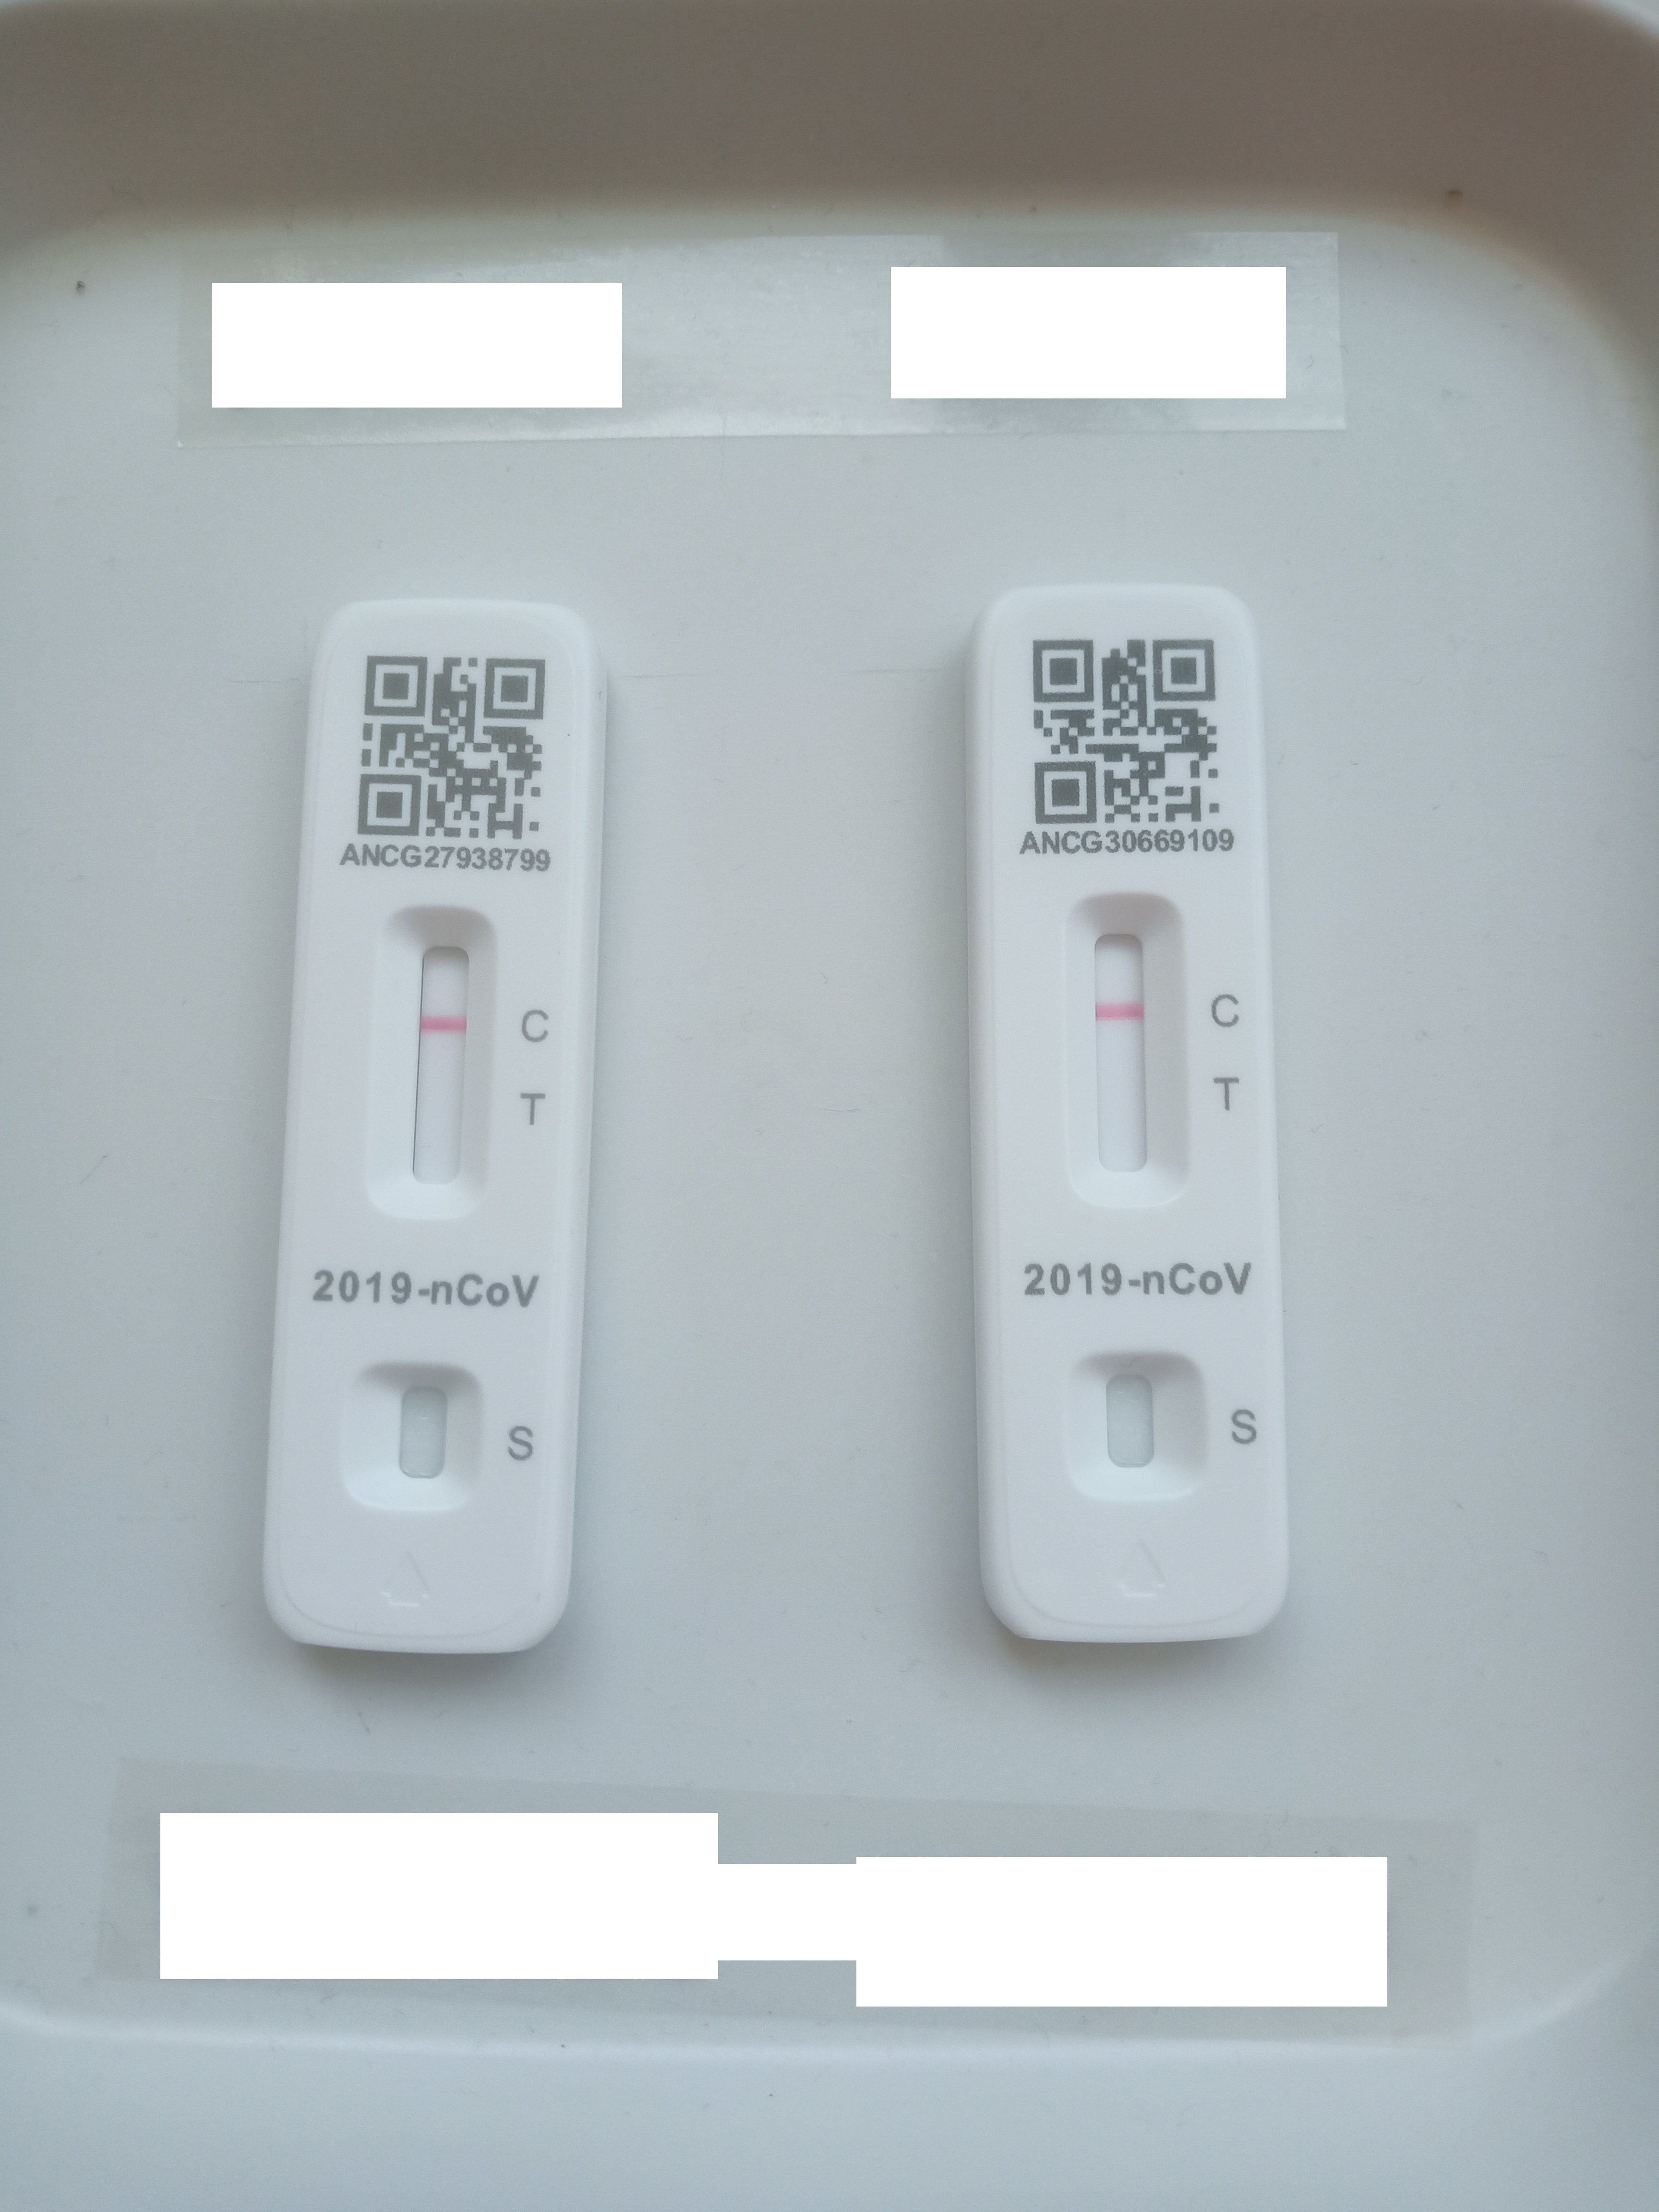negative: (366, 906, 512, 1223), (1061, 892, 1204, 1216)
